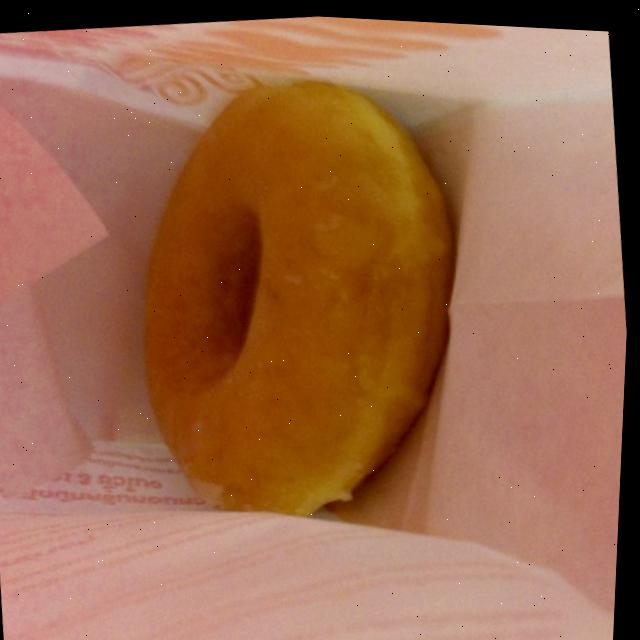炸货点心: (27, 20, 560, 563)
